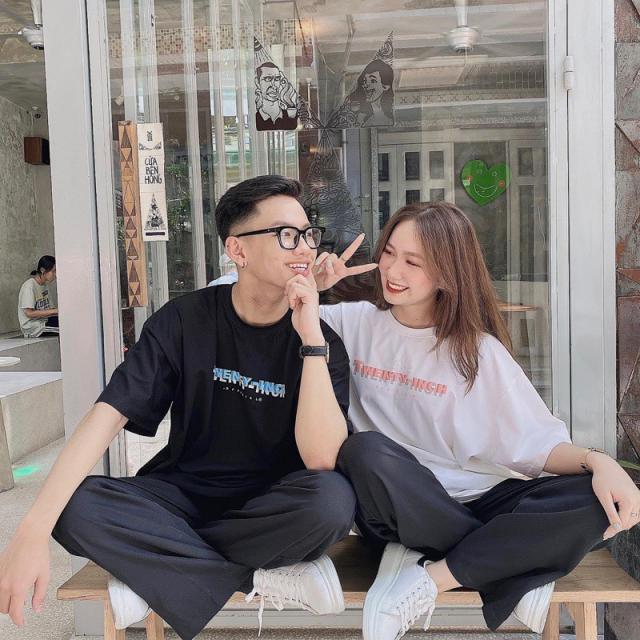Shirt: (95, 276, 357, 512), (303, 296, 585, 503)
